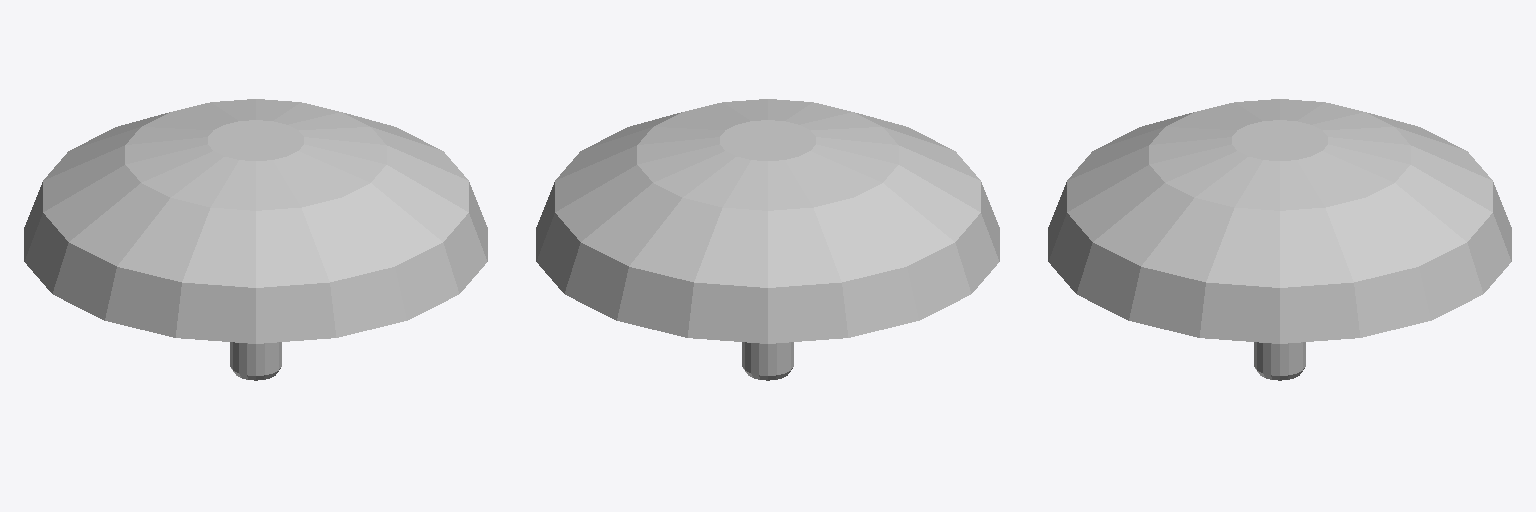
The model's file is Mushroom.obj.
3 views of the same model, side by side, from view 1: azimuth 30°, elevation 25°; view 2: azimuth 150°, elevation 25°; view 3: azimuth 270°, elevation 25° (orthographic).
Parts seen in each view (by area): view 1: Cylinder001; view 2: Cylinder001; view 3: Cylinder001.
Boxes of the visible parts, <box> form: Cylinder001: <box>24,99,487,380</box>; Cylinder001: <box>536,99,999,380</box>; Cylinder001: <box>1048,99,1511,380</box>.
Bounding box in the file's own units: 7.37 × 3.99 × 7.26.